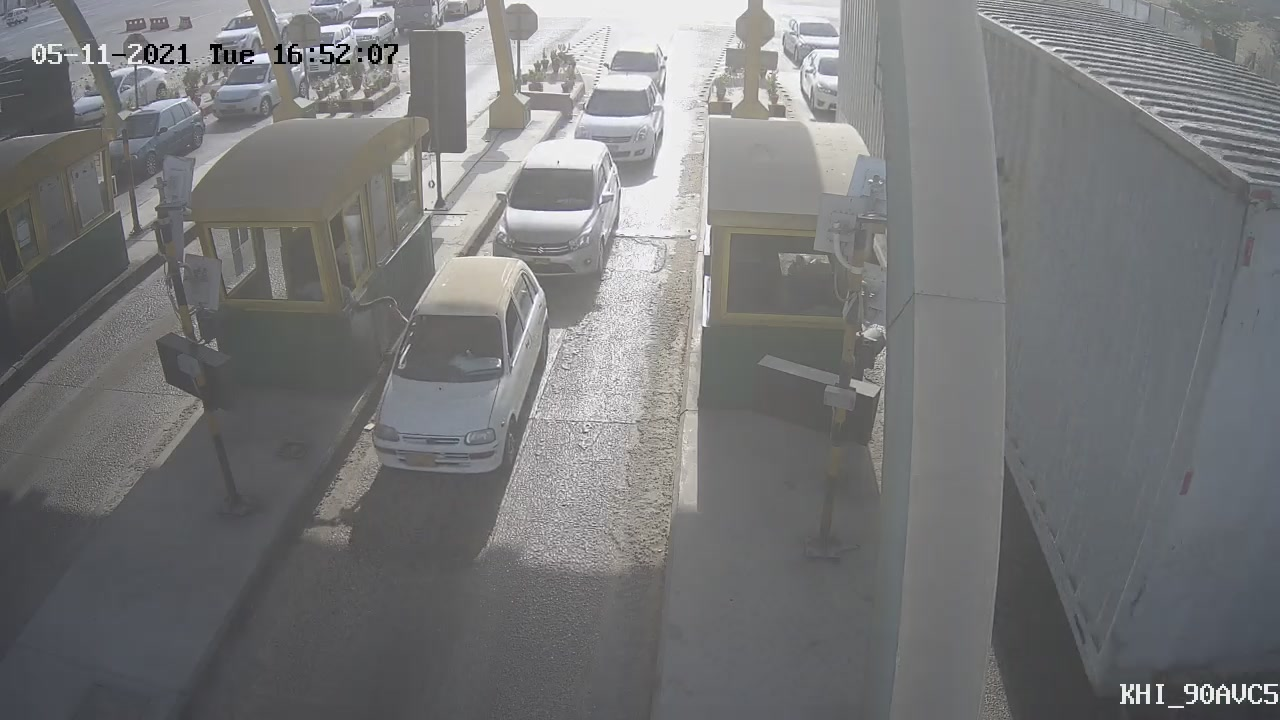F1: (350, 242, 563, 492), (477, 121, 642, 291), (560, 64, 678, 186)
